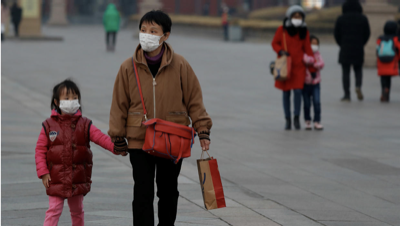with_mask: (139, 25, 164, 50), (58, 94, 82, 115), (290, 14, 304, 27), (310, 40, 320, 50)
